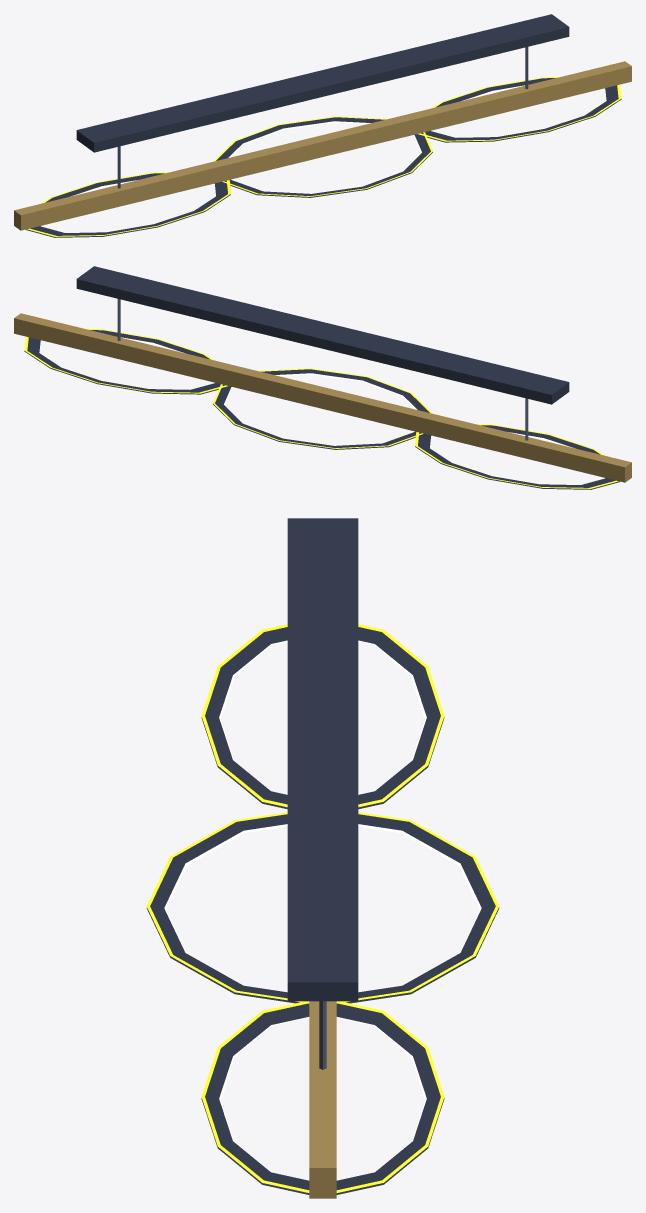
The model's file is res_chandelier_linear.glb.
3 renders of one model, top to bottom at view 1: azimuth 30°, elevation 25°; view 2: azimuth 150°, elevation 25°; view 3: azimuth 270°, elevation 25°, orthographic. The views are drawn at different scales.
Visible parts, largest first — view 1: ceiling_rose, brass_spine, amber_edge, opal_diffuser, suspension; view 2: ceiling_rose, brass_spine, amber_edge, opal_diffuser, suspension; view 3: ceiling_rose, amber_edge, brass_spine, opal_diffuser.
Part boxes in pixels (x1,y1,x2,y2): ceiling_rose: (26, 14, 621, 237); brass_spine: (14, 61, 631, 230); amber_edge: (27, 77, 621, 236); opal_diffuser: (71, 85, 604, 196); suspension: (117, 47, 528, 188); ceiling_rose: (24, 266, 619, 489); brass_spine: (14, 313, 631, 482); amber_edge: (24, 329, 618, 488); opal_diffuser: (41, 337, 574, 448); suspension: (117, 299, 528, 440); ceiling_rose: (146, 518, 499, 1194); amber_edge: (146, 624, 499, 1192); brass_spine: (309, 1001, 336, 1198); opal_diffuser: (164, 640, 481, 1141).
Bounding box in the file's own units: 3.6 × 0.45 × 0.9.
